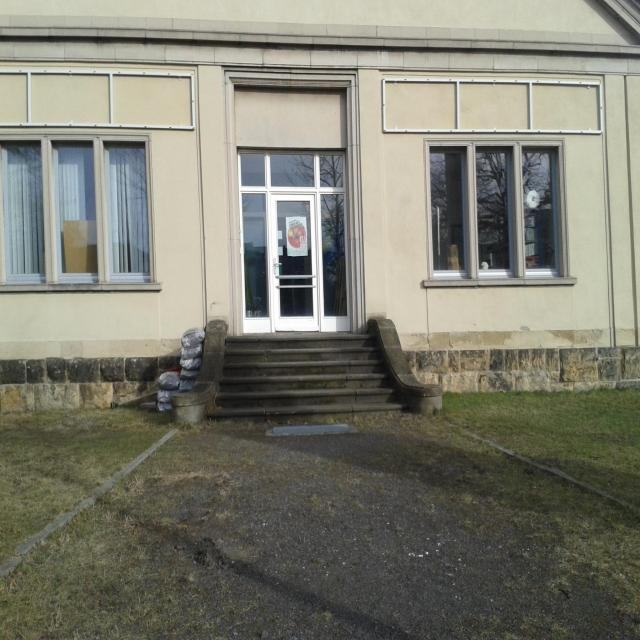AVOID: (207, 334, 410, 420)
